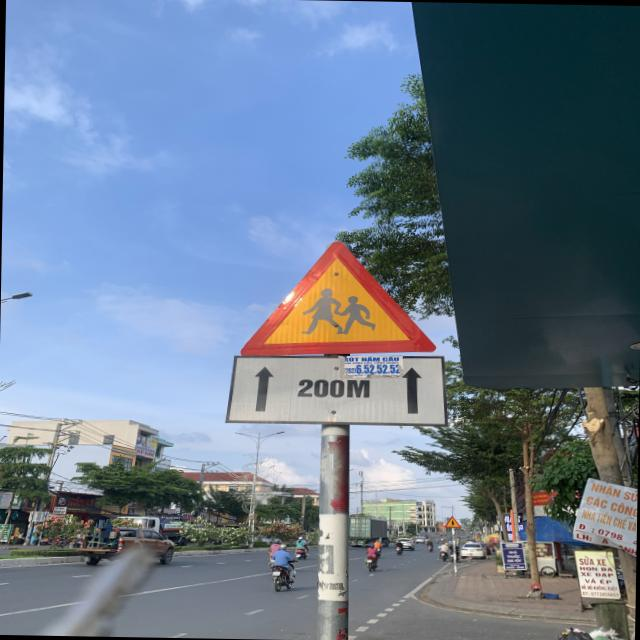Vong_Xuyen: (238, 238, 439, 358)
